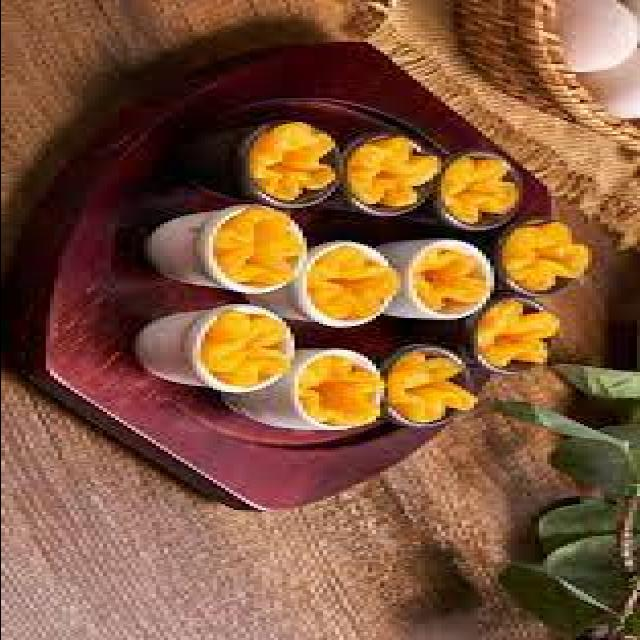Tongyib: (192, 306, 312, 390), (206, 213, 304, 293), (292, 249, 402, 316), (466, 304, 564, 376), (289, 352, 372, 432), (256, 125, 342, 201), (431, 151, 518, 226), (346, 138, 436, 210), (503, 226, 583, 286), (398, 352, 468, 420), (406, 251, 480, 313)
